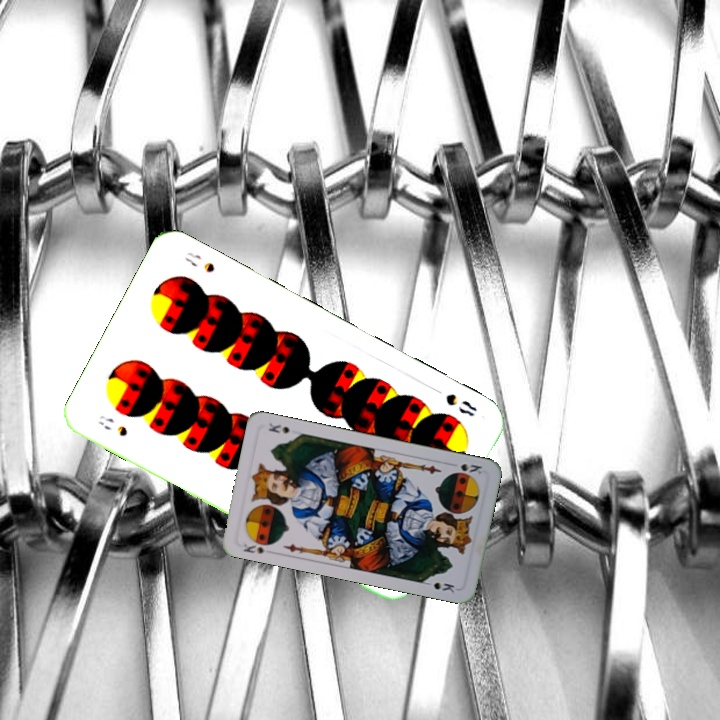S8: (441, 389, 480, 420), (94, 410, 130, 439)
SK: (456, 459, 485, 477), (239, 539, 266, 557)
